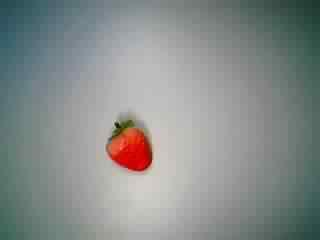strawberry: (94, 110, 167, 177)
